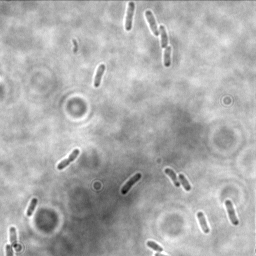Dividing: (56, 148, 81, 170), (123, 1, 136, 31), (93, 62, 106, 88)
Rod: (120, 172, 142, 196), (144, 9, 160, 37), (224, 199, 240, 226), (162, 167, 182, 188), (196, 210, 211, 233), (177, 172, 192, 192), (26, 196, 39, 216), (162, 45, 173, 68), (145, 239, 164, 252), (158, 25, 168, 48), (9, 226, 18, 248)
